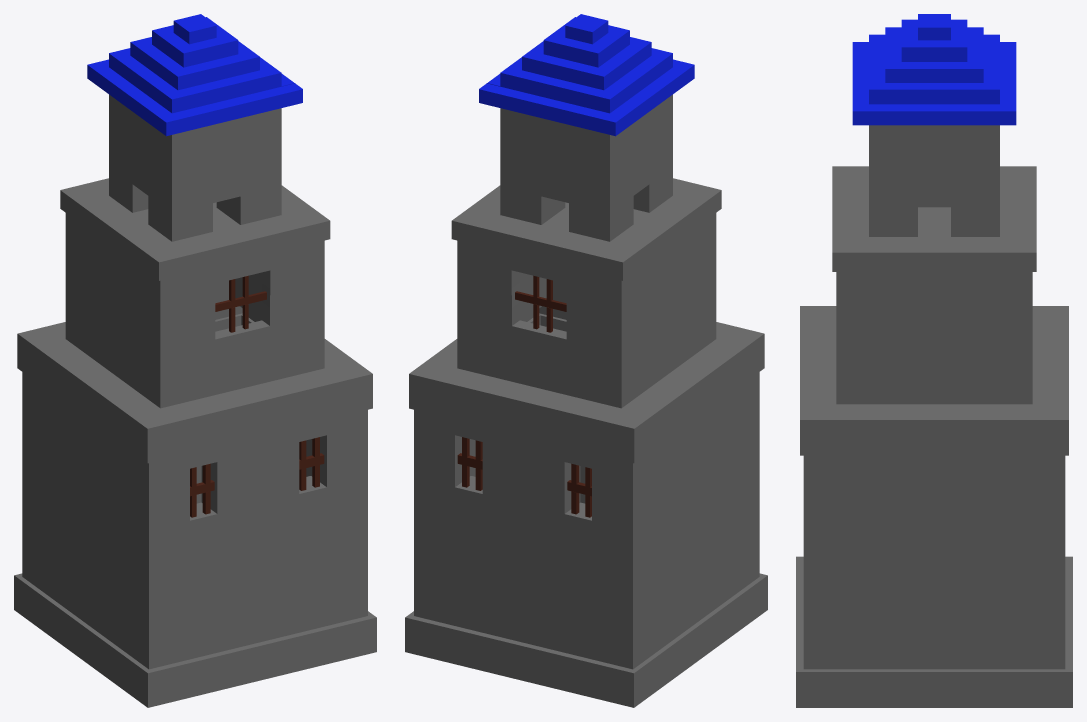
File: Tower red.FBX
3 renders of one model, left to right at view 1: azimuth 30°, elevation 25°; view 2: azimuth 150°, elevation 25°; view 3: azimuth 270°, elevation 25°, orthographic. The views are drawn at different scales.
Visible parts, largest first — view 1: Tour; view 2: Tour; view 3: Tour.
Boxes of the visible parts, bbox=[...] form: Tour: bbox=[14, 14, 376, 707]; Tour: bbox=[405, 14, 767, 707]; Tour: bbox=[796, 14, 1072, 707].
Bounding box in the file's own units: 109 × 277 × 111.
